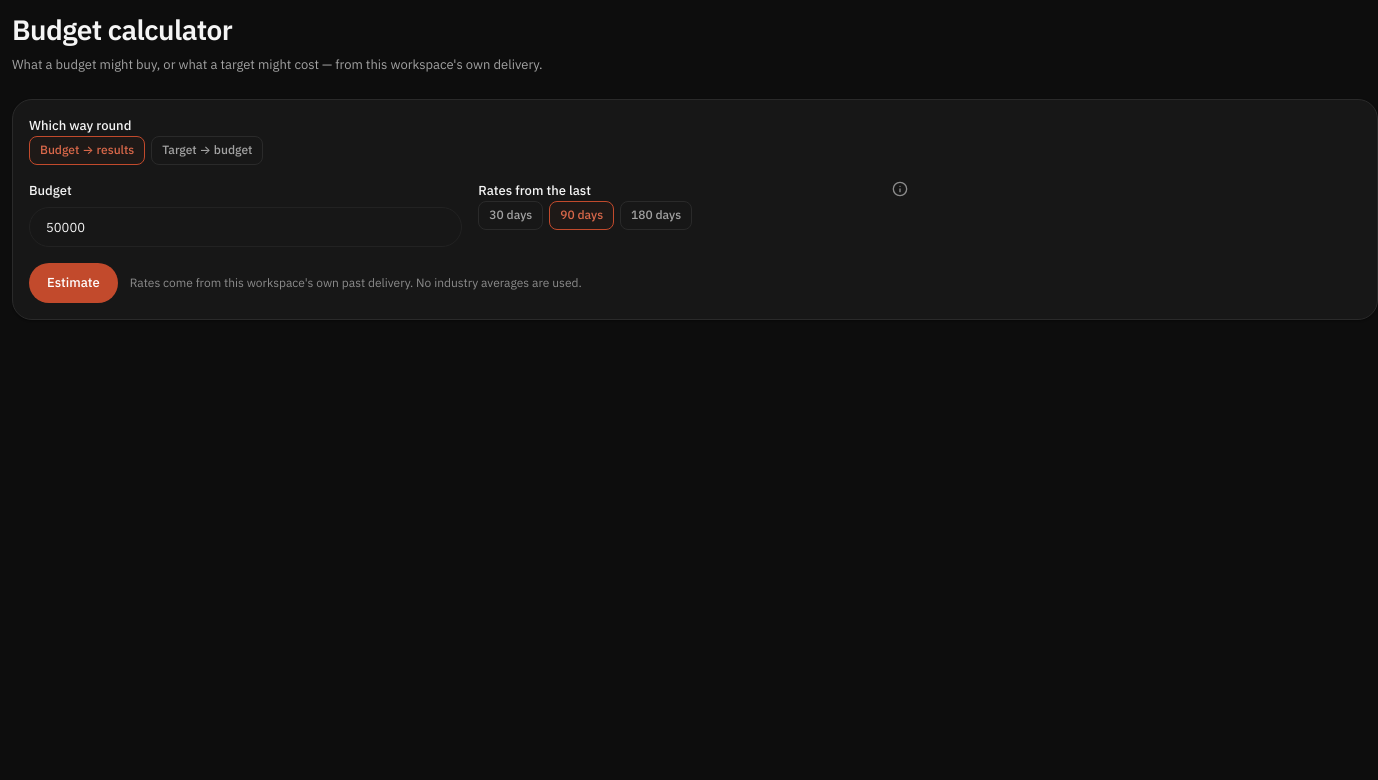
Test: BudgetCalculatorPage › estimates results from a budget
Click the button "Estimate" at (73, 283), box left=29, top=263, right=118, bottom=303
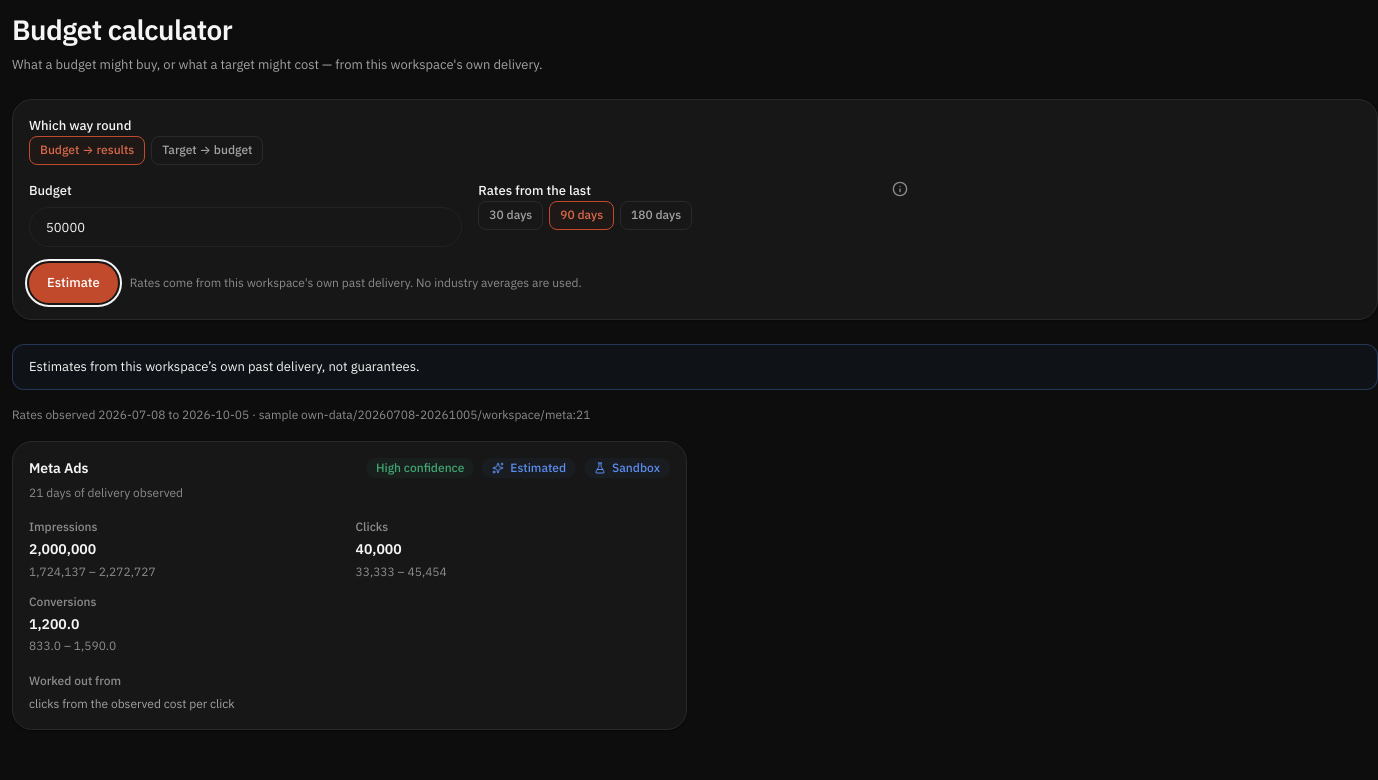
Check: the heading "Meta Ads" is shown, box left=29, top=458, right=88, bottom=479
Check: the text "40,000" is shown, box left=356, top=539, right=402, bottom=560
